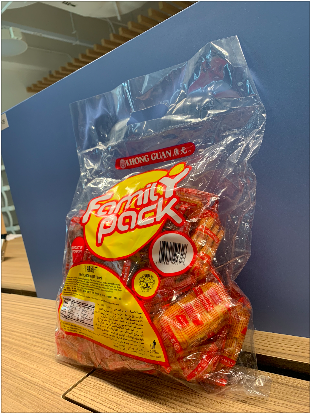Cookies_600-699g: (72, 166, 233, 364)
